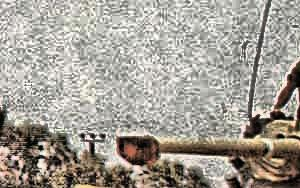tanks: (118, 118, 300, 188), (78, 186, 102, 188)
